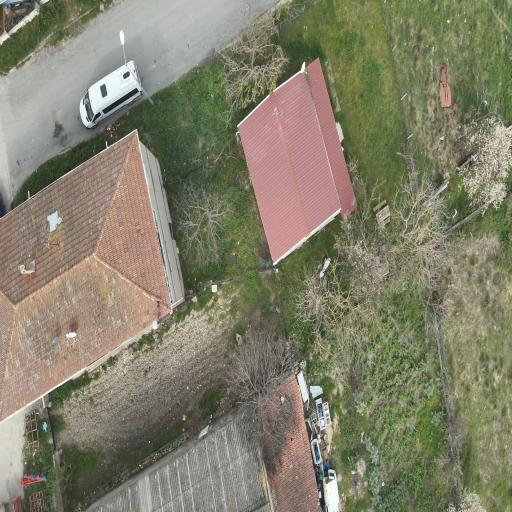car: (79, 60, 143, 128)
